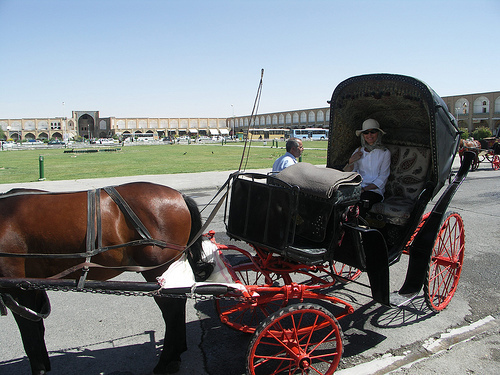horse: (1, 180, 204, 374)
